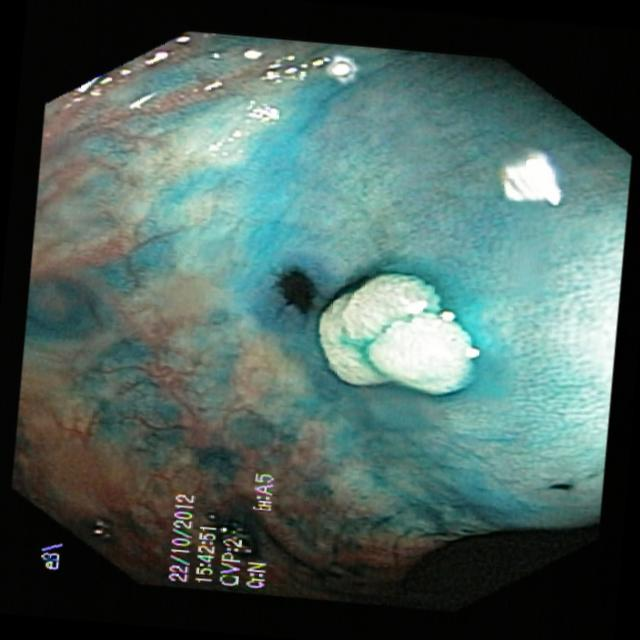dyed-lifted-polyps: (314, 250, 488, 402)
